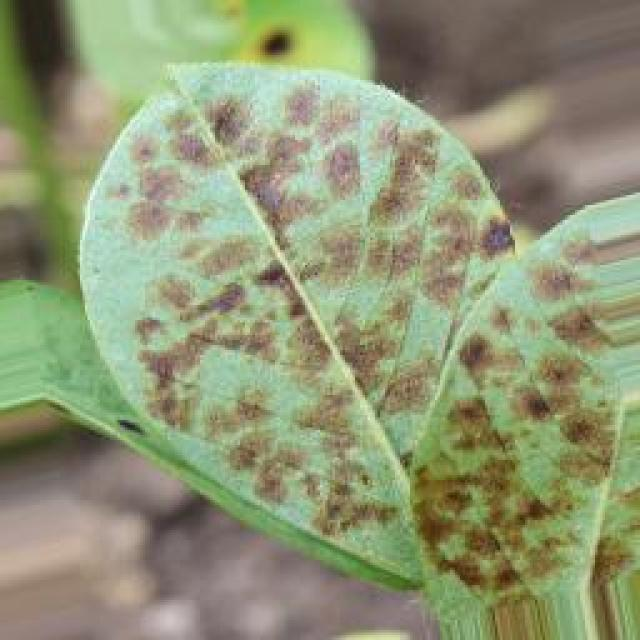Whitefly: (82, 67, 634, 604)
